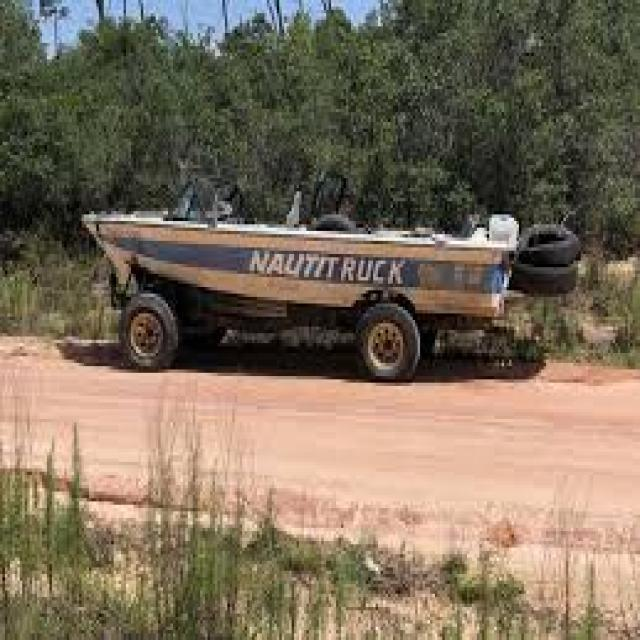ship2: (82, 188, 520, 322)
